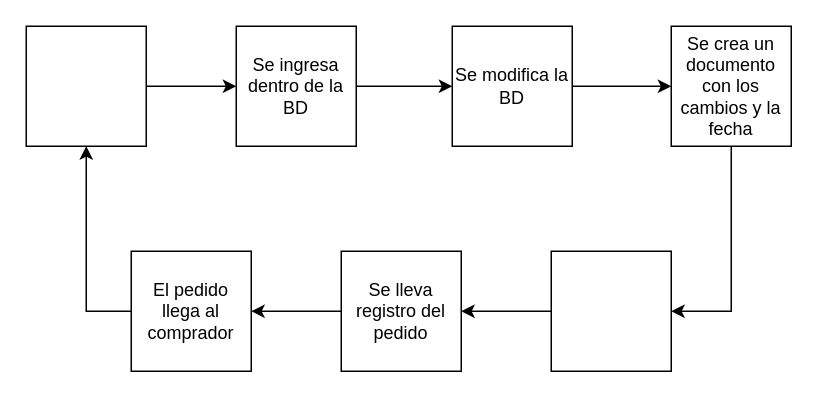
The diagram is 818 pixels wide and 398 high, and some of its shapes have lost their labels. Each missing label, with the centre of its shape:
El comprador recibe un pedido: [85,85]
Se envia el pedido: [610,310]
